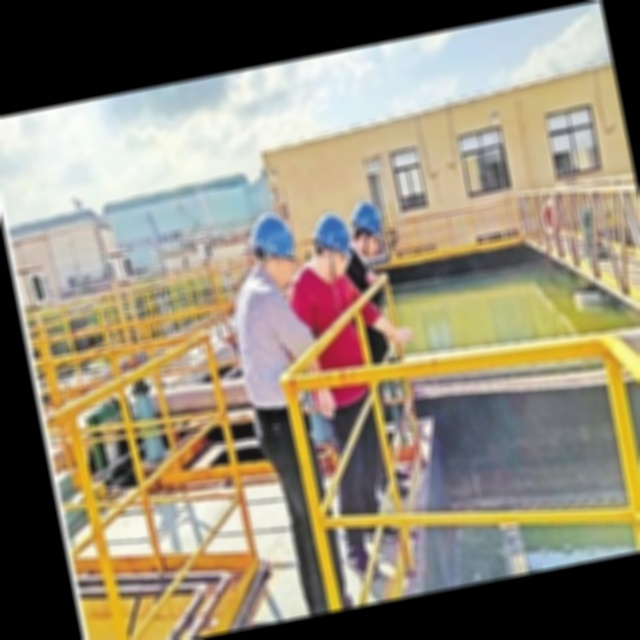Con_Casco: (246, 208, 300, 290), (307, 209, 357, 281)
